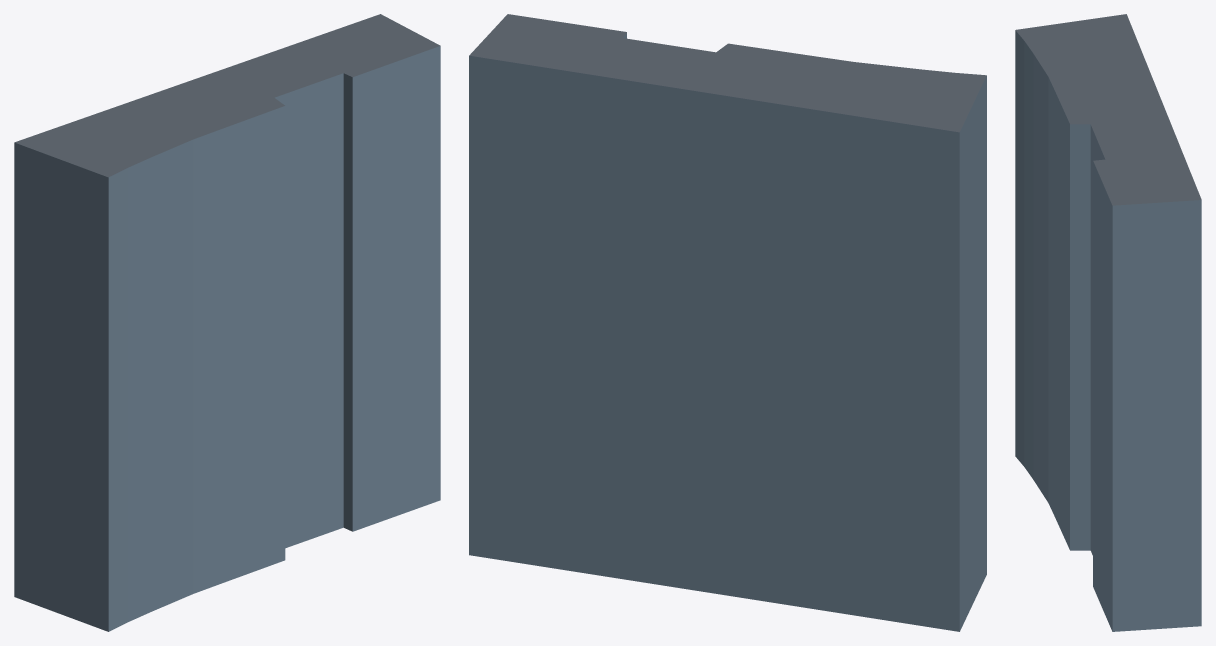
3 views of the same model, side by side, from view 1: azimuth 30°, elevation 25°; view 2: azimuth 150°, elevation 25°; view 3: azimuth 270°, elevation 25° (orthographic). The views are drawn at different scales.
Visible parts, largest first — view 1: HP-w369237894; view 2: HP-w369237894; view 3: HP-w369237894.
Boxes of the visible parts, bbox=[...] form: HP-w369237894: bbox=[14, 14, 440, 631]; HP-w369237894: bbox=[469, 14, 986, 631]; HP-w369237894: bbox=[1015, 14, 1201, 631].
Size of the model in its own units: 110 by 114 by 45.23.
